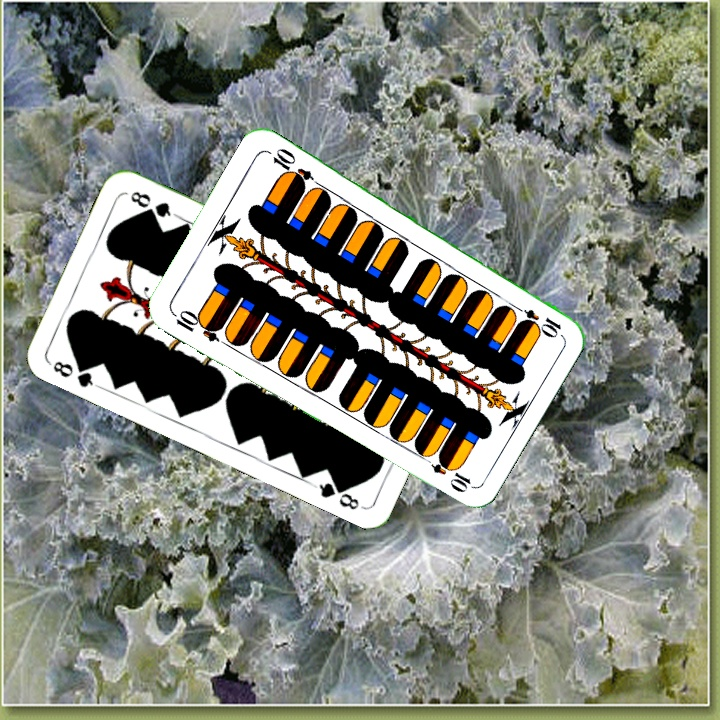E10: (167, 305, 224, 345), (508, 300, 564, 339)
G8: (46, 356, 102, 391)
